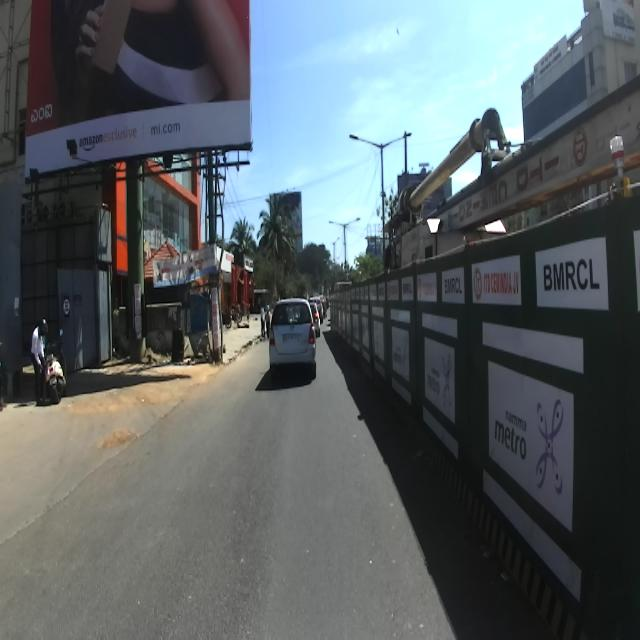barrier ahead at: (335, 194, 639, 640)
car ahead at: (266, 300, 320, 386)
